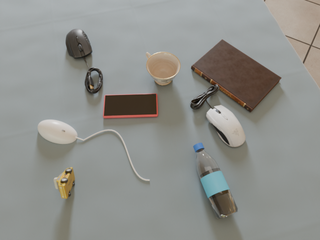book: (191, 39, 281, 112)
bottle: (193, 143, 238, 219)
cup: (146, 52, 180, 85)
mouse: (206, 105, 245, 147), (38, 120, 77, 144), (66, 29, 92, 61)
phone: (103, 94, 158, 118)
toy_car: (54, 167, 75, 199)
